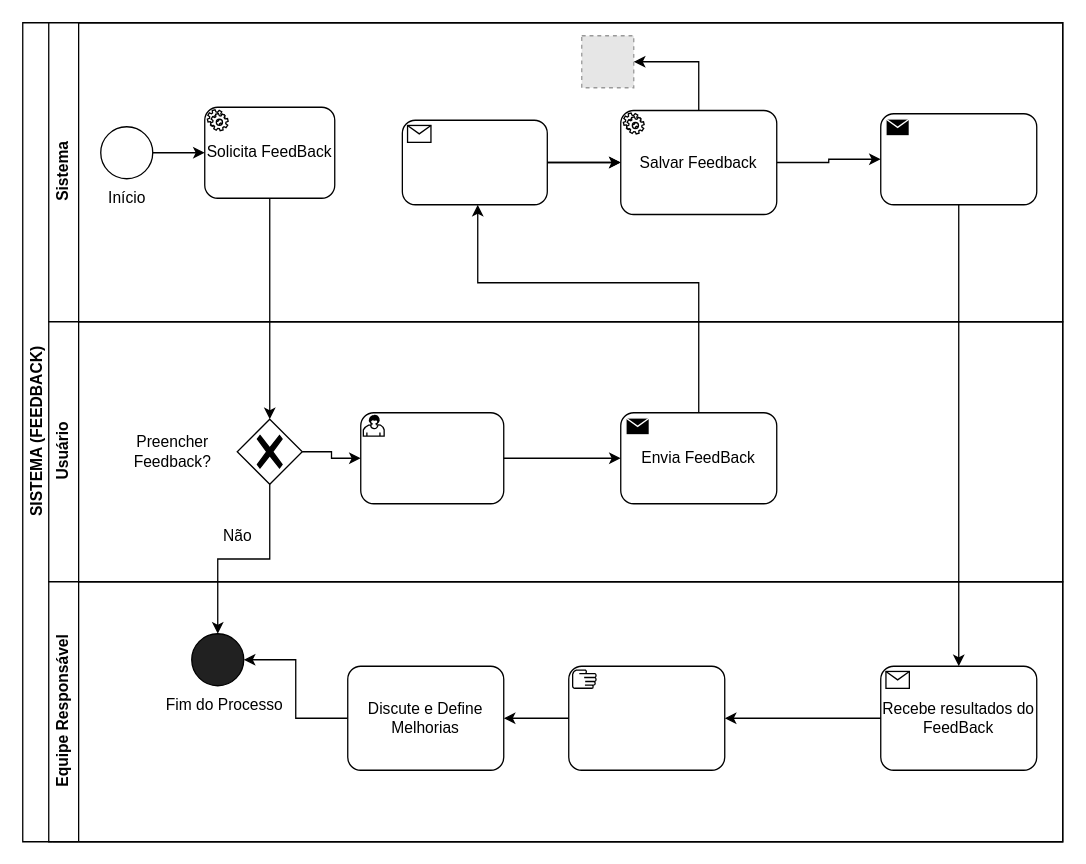
This 1086x864 diagram has some shape labels left out. Grey dashed boxes stand in for pictures. Here are the shapes that lost their labels. From the top down, the centre of each, then its label:
At [474,162]: "Recebe FeedBack".
At [958,158]: "Envia resultados para a Equipe".
At [431,457]: "Preenche FeedBack".
At [646,717]: "Analisa Resultados".
